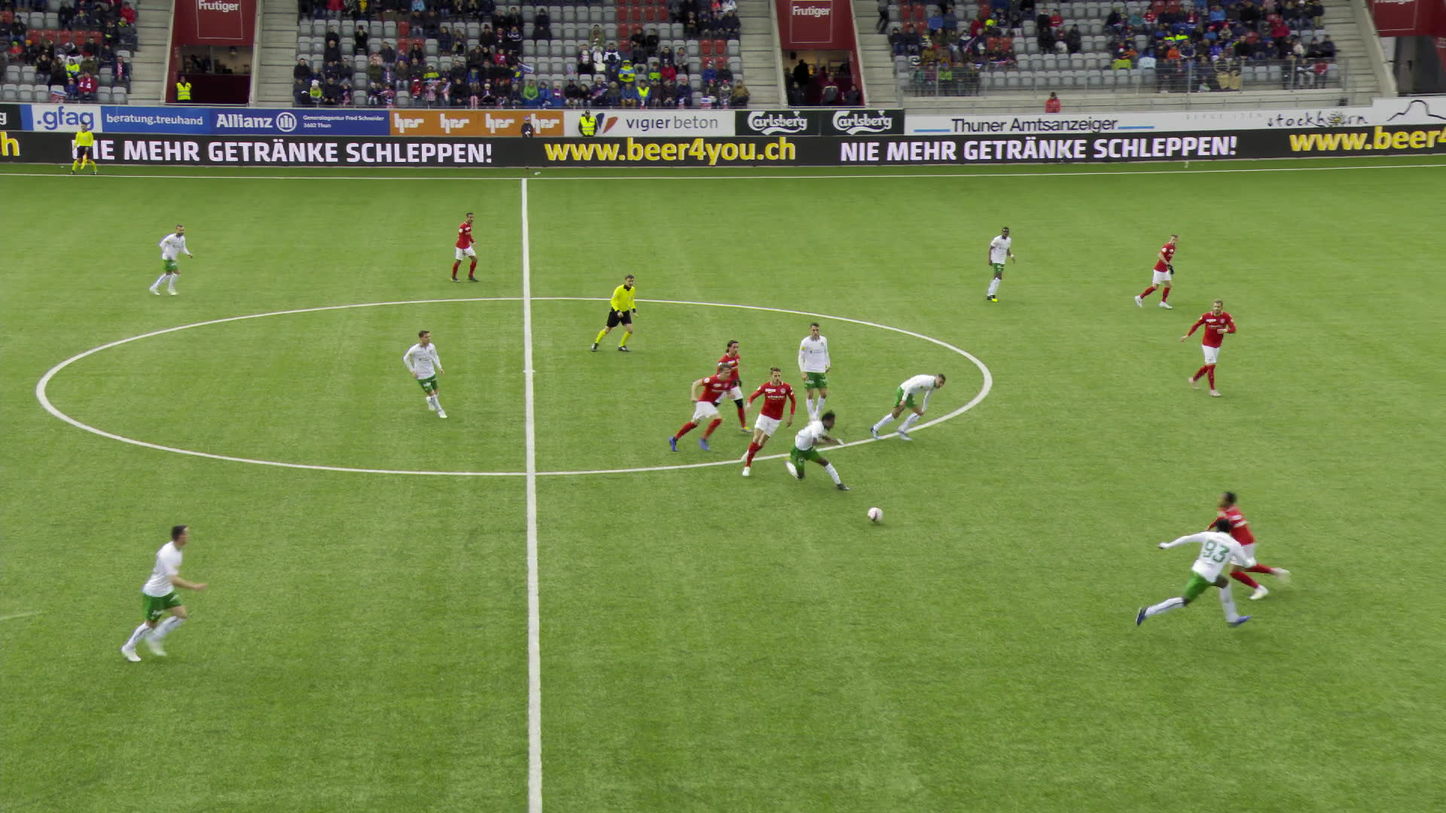ball: (862, 505, 877, 519)
player: (1130, 519, 1251, 632), (121, 521, 209, 664), (1199, 491, 1293, 596), (738, 367, 798, 477), (666, 363, 733, 453), (772, 408, 843, 490), (1182, 298, 1237, 399), (868, 371, 948, 440), (402, 328, 449, 419), (792, 325, 831, 430), (1133, 235, 1179, 311), (700, 344, 737, 434), (148, 226, 188, 296), (444, 211, 480, 285), (981, 224, 1014, 304)
referee: (592, 273, 641, 355), (66, 121, 90, 176)
